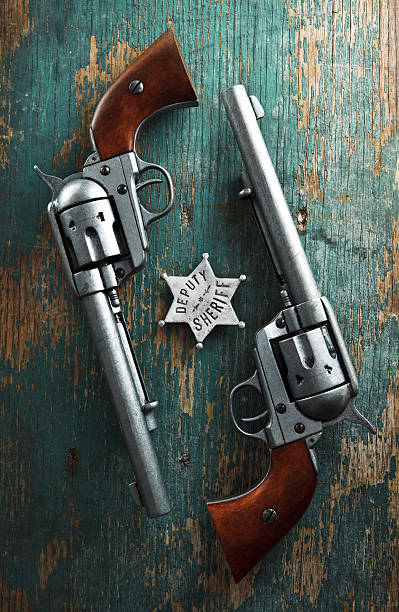pistol: (207, 37, 381, 592), (31, 21, 207, 514)
